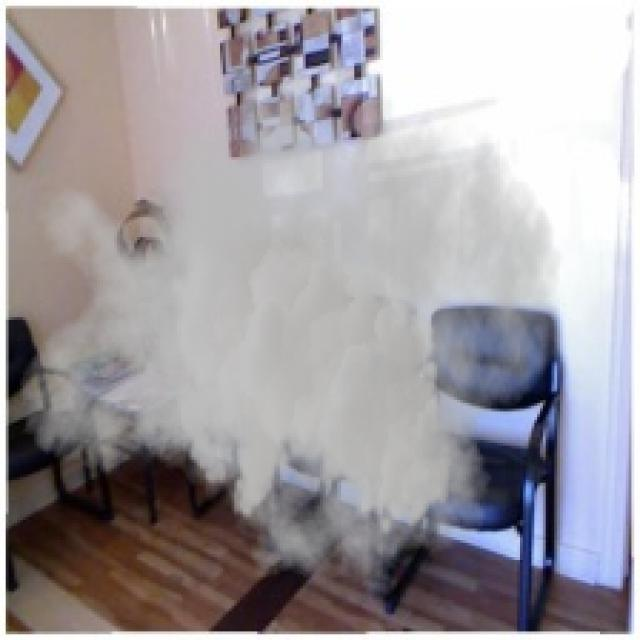smoke: (17, 31, 563, 600)
